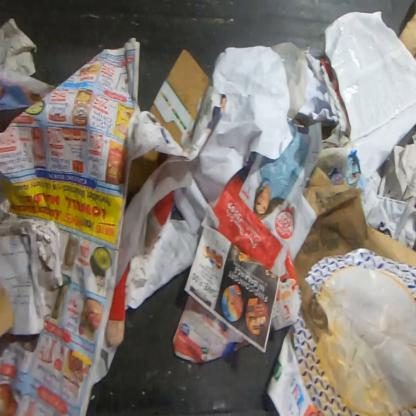cardboard: (294, 164, 416, 345), (148, 50, 210, 150), (124, 149, 170, 213), (396, 12, 416, 61)
